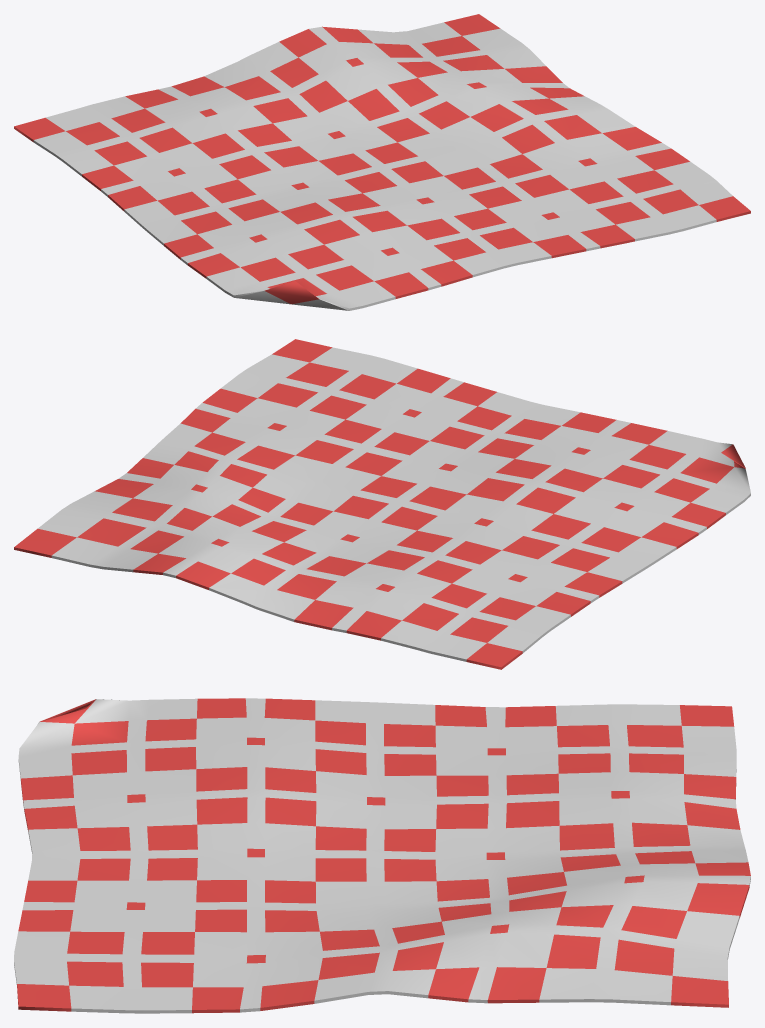
The model's file is Blanket.fbx.
3 views of the same model, one above another, from view 1: azimuth 30°, elevation 25°; view 2: azimuth 150°, elevation 25°; view 3: azimuth 270°, elevation 25° (orthographic). The views are drawn at different scales.
Visible parts, largest first — view 1: Blanket; view 2: Blanket; view 3: Blanket.
Part boxes in pixels (x1,y1,x2,y2): Blanket: (14, 14, 750, 310); Blanket: (14, 339, 750, 669); Blanket: (14, 698, 750, 1013).
Bounding box in the file's own units: 204 × 8.74 × 205.
